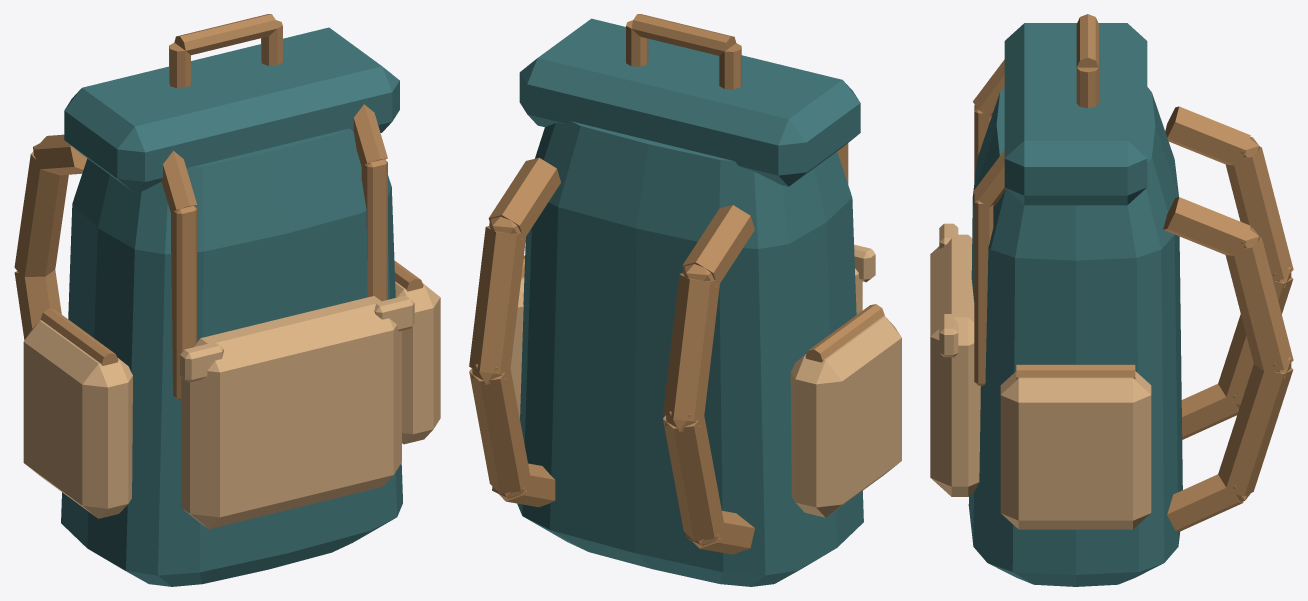
The picture shows the model from 3 angles, left to right: view 1: azimuth 30°, elevation 25°; view 2: azimuth 150°, elevation 25°; view 3: azimuth 270°, elevation 25°; orthographic projection. The views are drawn at different scales.
Visible parts, largest first — view 1: camping-backpack-01; view 2: camping-backpack-01; view 3: camping-backpack-01.
Part boxes in pixels (x1,y1,x2,y2): camping-backpack-01: (14, 14, 440, 586); camping-backpack-01: (469, 14, 901, 586); camping-backpack-01: (930, 14, 1293, 586).
Size of the model in its own units: 0.507 by 0.694 by 0.4578.
